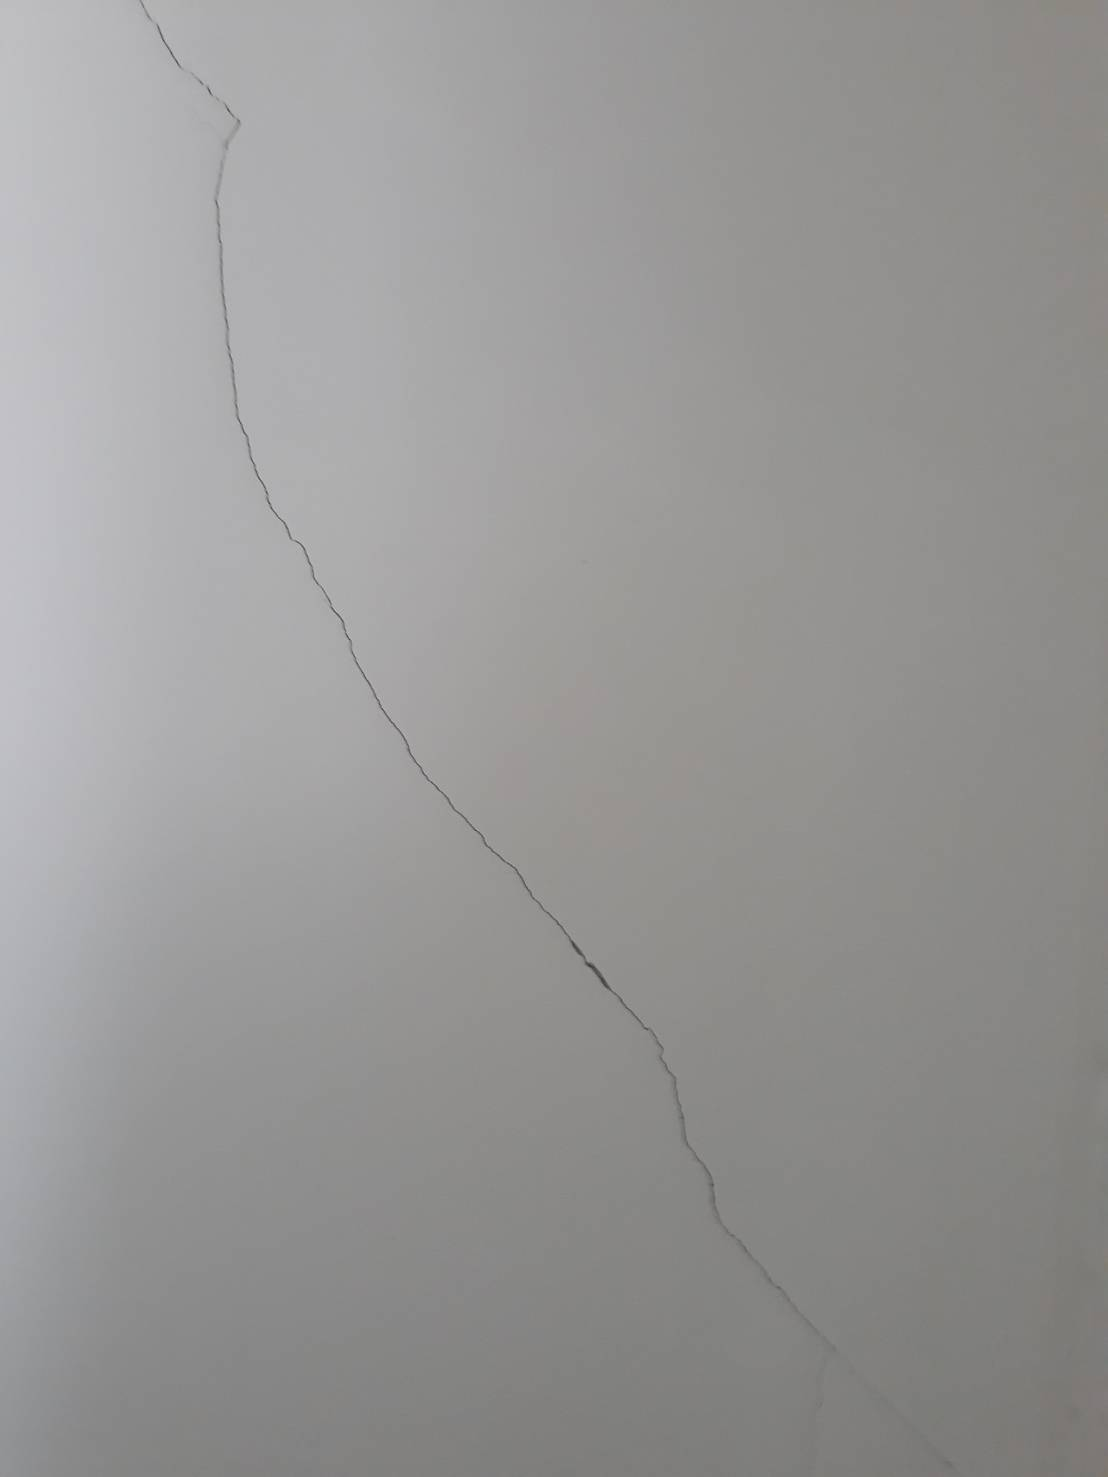Low: (129, 1, 973, 1477)
